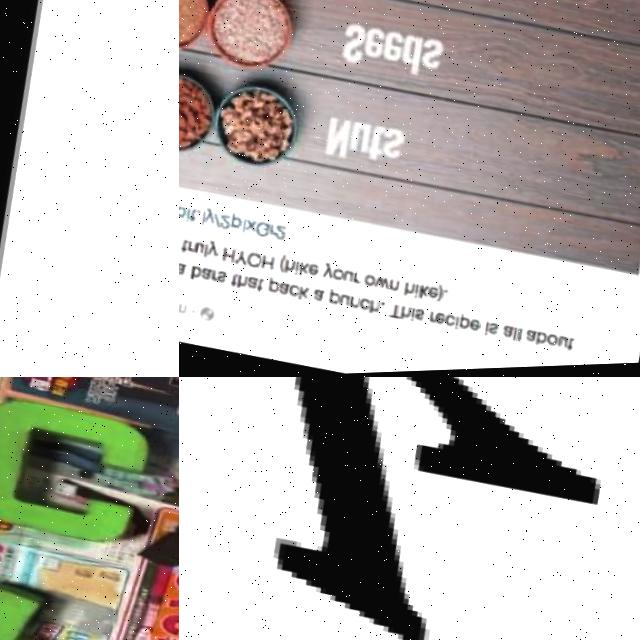2: (209, 213, 223, 230), (264, 224, 278, 241)
C: (0, 381, 161, 559)
F: (0, 574, 104, 640)
K: (179, 377, 640, 640)
L: (0, 0, 154, 374)
